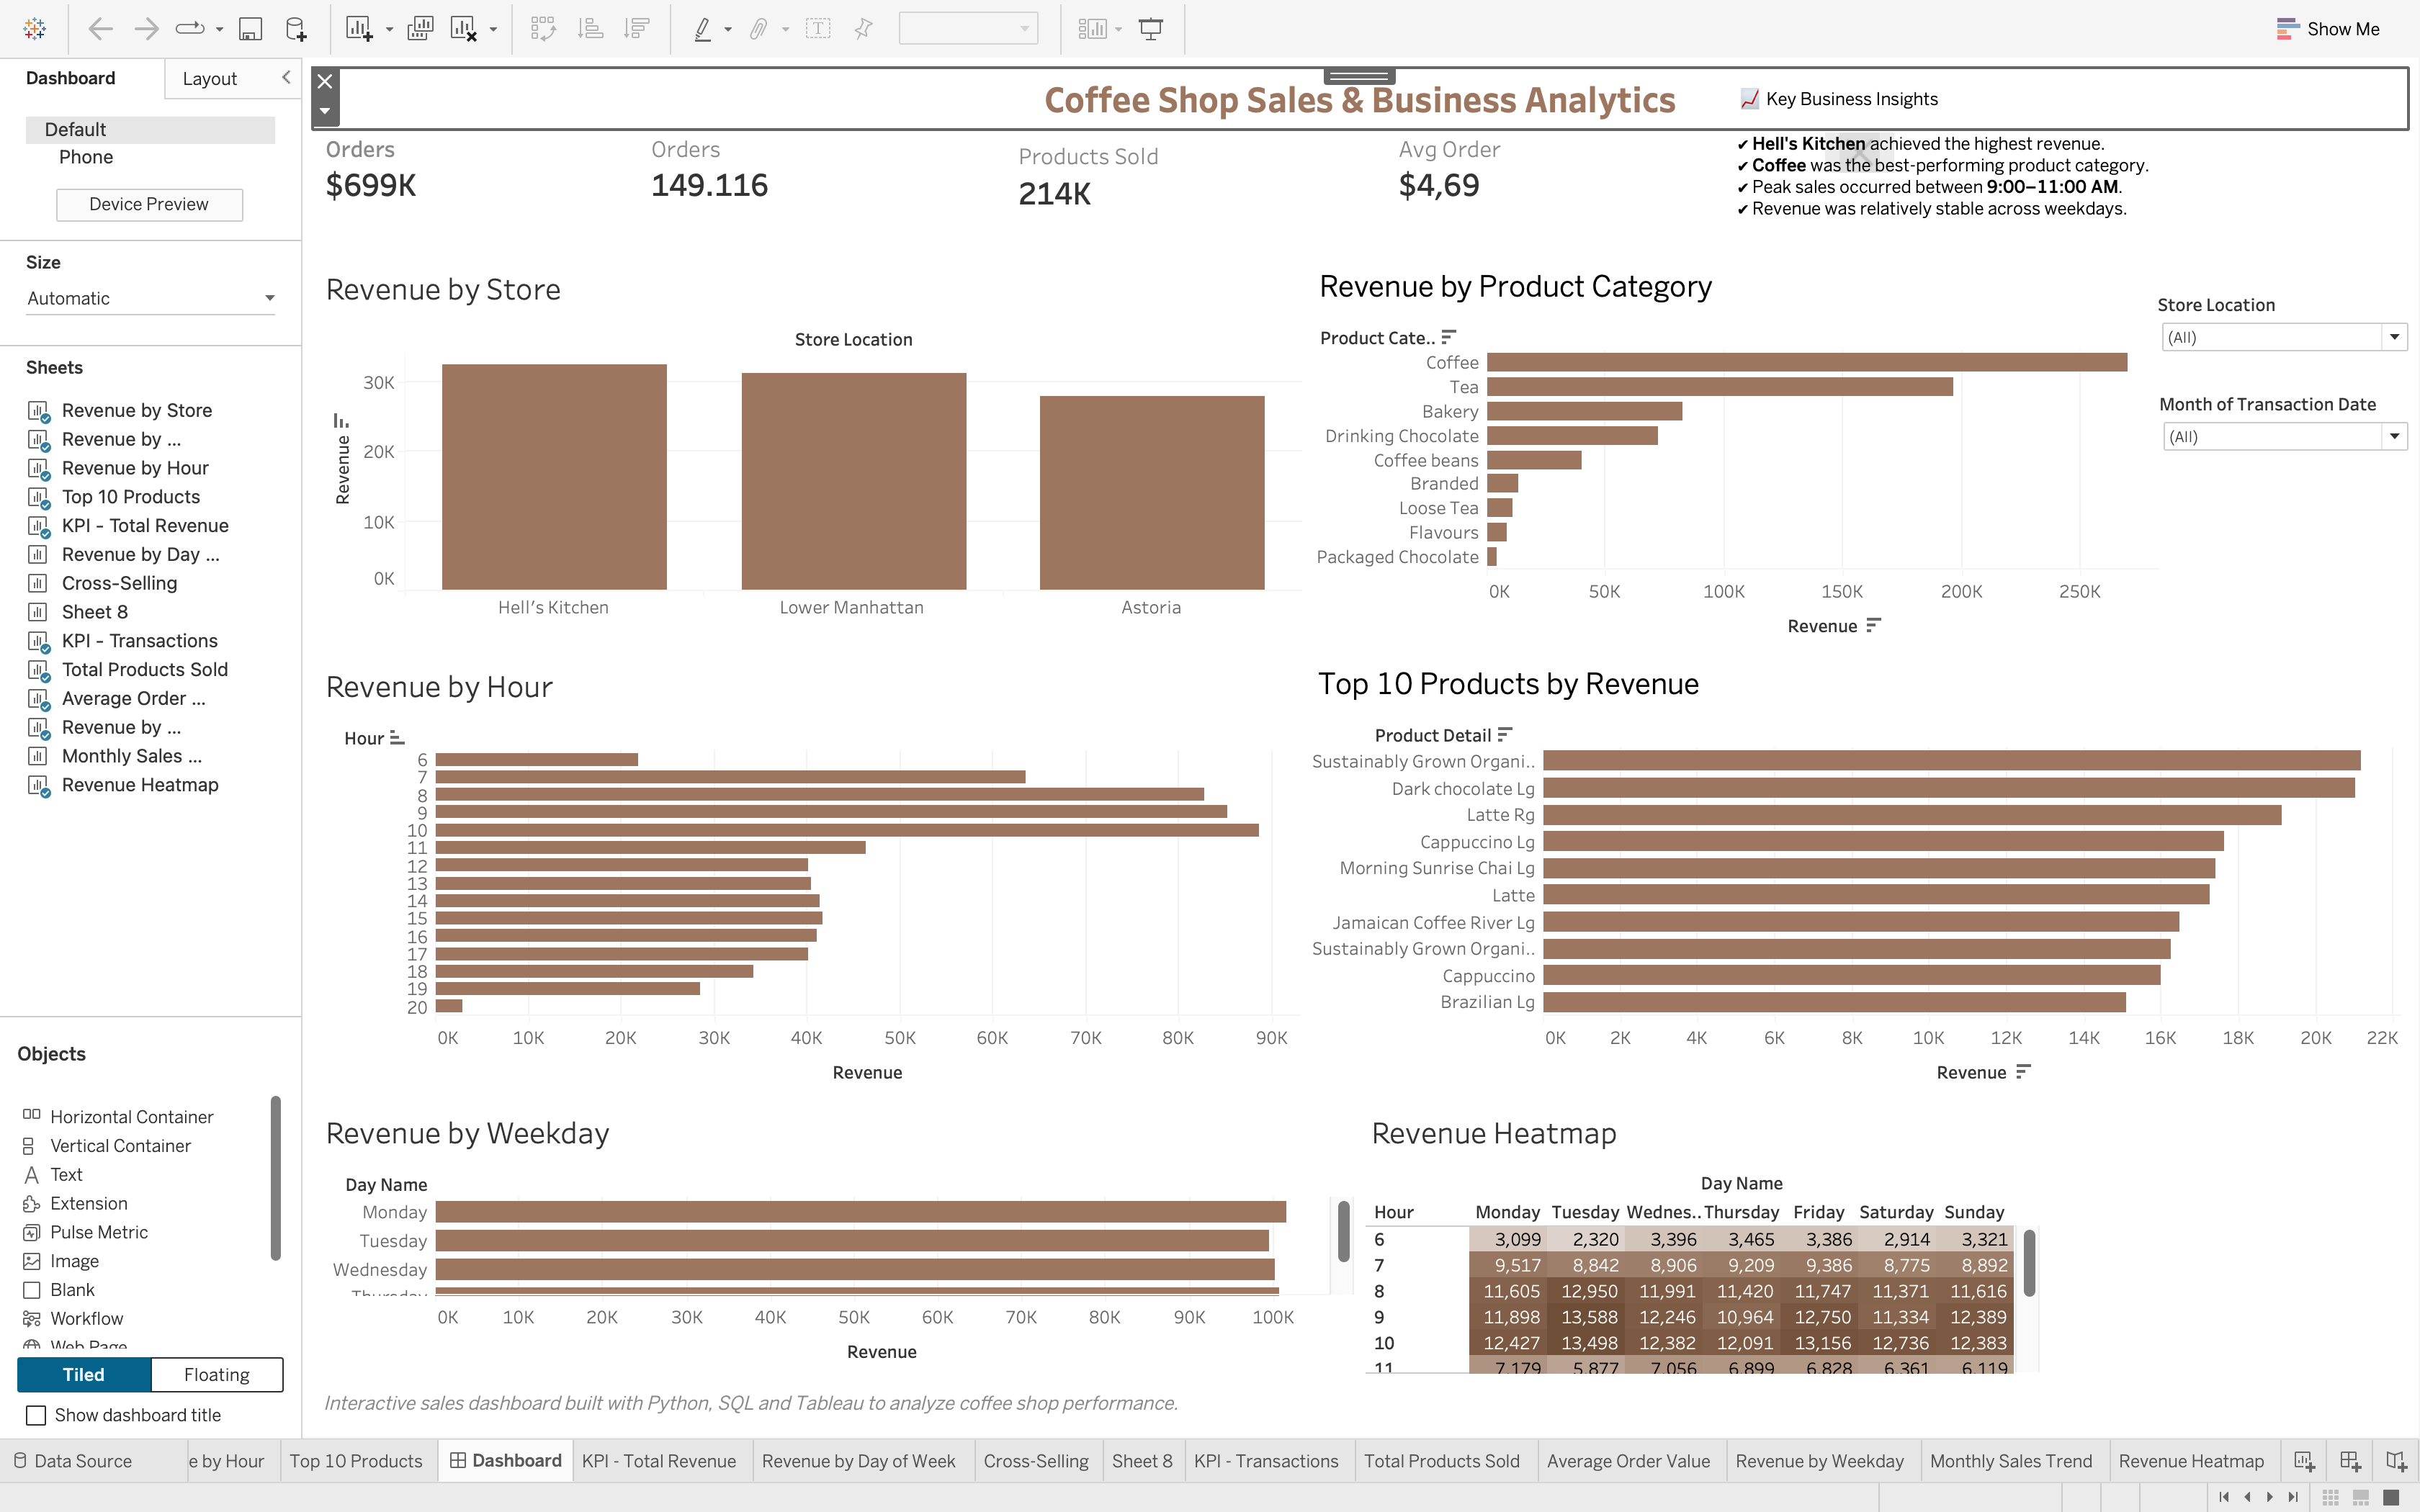

This screenshot's page, from the dashboard's own definition file:
{"tool":"tableau","page":{"name":"Dashboard","canvas":[1000,1000],"units":"permille","ordinal":0},"visuals":[{"type":"title","box":[5.5,8.3,989.1,42.8]},{"type":"worksheet","title":"KPI - Total Revenue","mark":"Automatic","box":[5.5,51.1,154.2,92.7]},{"type":"worksheet","title":"KPI - Transactions","mark":"Text","box":[159.6,51.1,173.1,92.7]},{"type":"worksheet","title":"Total Products Sold","mark":"Automatic","box":[332.8,51.1,180.2,92.7]},{"type":"worksheet","title":"Average Order Value","mark":"Automatic","box":[512.9,51.1,153.5,60.5]},{"type":"dashboard-object","box":[719.7,54.7,32.4,29.2]},{"type":"worksheet","title":"Revenue by Store","mark":"Automatic","rows":["revenue"],"cols":["store_location"],"box":[5.5,143.8,469.4,287.9]},{"type":"worksheet","title":"Revenue by Category","mark":"Automatic","rows":["product_category"],"cols":["revenue"],"box":[474.9,143.8,405.3,287.9]},{"type":"filter","title":"Revenue by Store","param":"[federated.0lybge21jmmsyi14utavk137oa0q].[none:store_location:nk]","box":[876.7,170.2,120.5,53.2]},{"type":"filter","title":"Revenue by Hour","param":"[federated.0lybge21jmmsyi14utavk137oa0q].[mn:transaction_date:ok]","box":[877.4,242.2,119.8,53.2]},{"type":"worksheet","title":"Revenue by Hour","mark":"Automatic","rows":["hour"],"cols":["revenue"],"box":[5.5,431.7,469.1,323.6]},{"type":"worksheet","title":"Top 10 Products","mark":"Automatic","rows":["product_detail"],"cols":["revenue"],"box":[474.6,431.7,520,323.6]},{"type":"worksheet","title":"Revenue by Weekday","mark":"Automatic","rows":["day_name"],"cols":["revenue"],"box":[5.5,755.2,494.3,203]},{"type":"worksheet","title":"Revenue Heatmap","mark":"Square","rows":["hour"],"cols":["day_name"],"box":[499.7,755.2,494.8,203]},{"type":"text","box":[5.5,958.2,989.1,33.4]}]}

Visuals, with their boxes on the dashboard's canvas, which has no fixed pixel size, in thousandths of its width and height (x1, y1, x2, y2). These are canvas units, not pixel positions in the 2420x1512 screenshot, which may show the page scaled, cropped or inside an application window:
title: left=6, top=8, right=995, bottom=51
"KPI - Total Revenue" worksheet: left=6, top=51, right=160, bottom=144
"KPI - Transactions" worksheet (Text marks): left=160, top=51, right=333, bottom=144
"Total Products Sold" worksheet: left=333, top=51, right=513, bottom=144
"Average Order Value" worksheet: left=513, top=51, right=666, bottom=112
dashboard-object: left=720, top=55, right=752, bottom=84
"Revenue by Store" worksheet: left=6, top=144, right=475, bottom=432
"Revenue by Category" worksheet: left=475, top=144, right=880, bottom=432
"Revenue by Store" filter: left=877, top=170, right=997, bottom=223
"Revenue by Hour" filter: left=877, top=242, right=997, bottom=295
"Revenue by Hour" worksheet: left=6, top=432, right=475, bottom=755
"Top 10 Products" worksheet: left=475, top=432, right=995, bottom=755
"Revenue by Weekday" worksheet: left=6, top=755, right=500, bottom=958
"Revenue Heatmap" worksheet (Square marks): left=500, top=755, right=994, bottom=958
text: left=6, top=958, right=995, bottom=992
